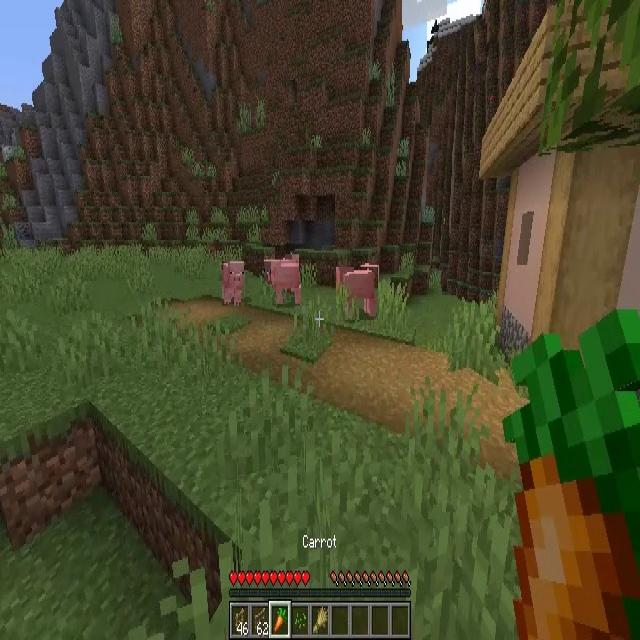pig: (336, 267, 378, 320), (266, 256, 299, 307), (222, 261, 244, 306)
